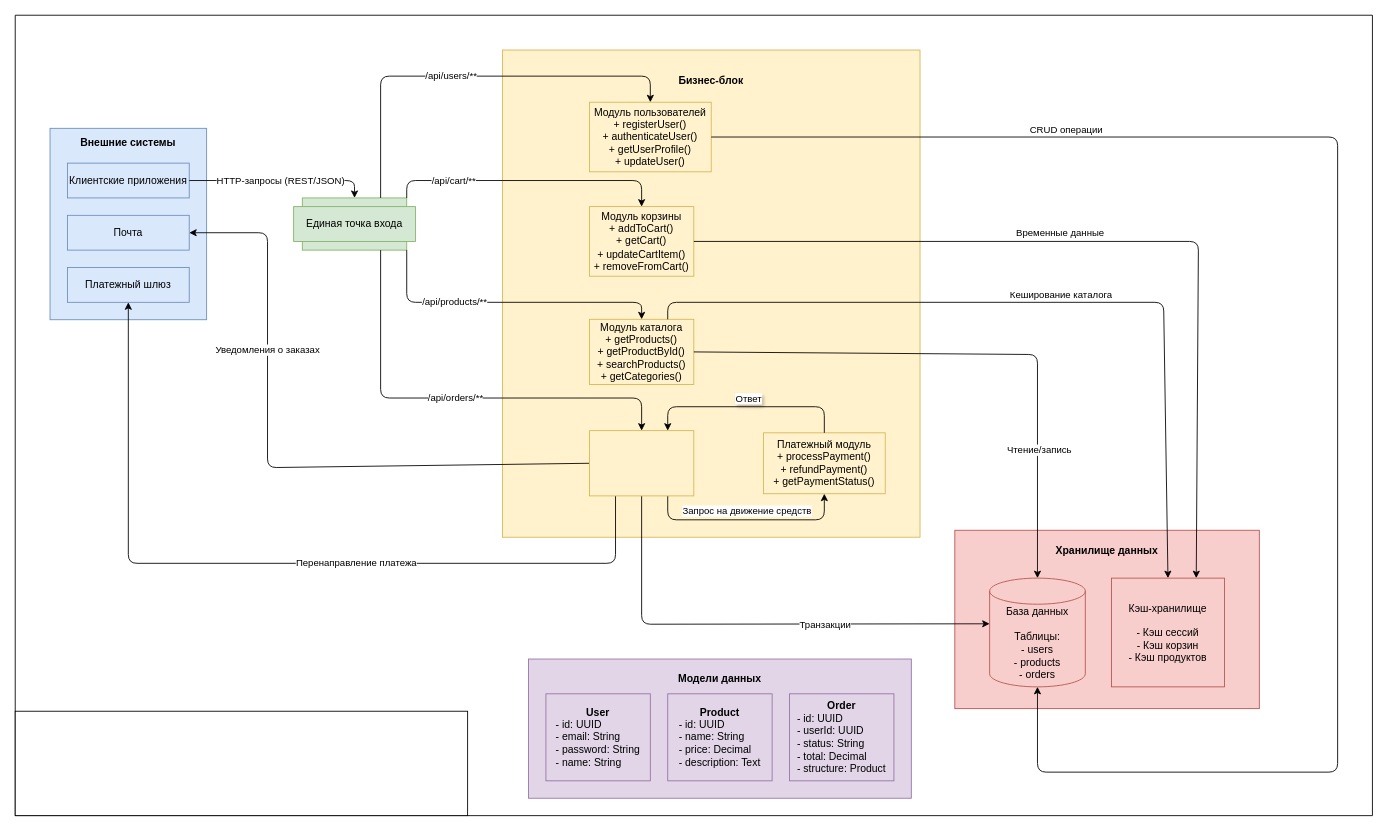
Some shapes in this 1388 by 831 pixel diagram are drawn without their labels. The centre of each missing label's shape, as x and y in pixels:
"REST API Онлайн магазина" belongs at [241,763].
"Модуль заказов + addToCart() + getCart() + updateCartItem() + removeFromCart()" belongs at [641,463].
